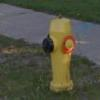Hydrant: (36, 7, 84, 90)
